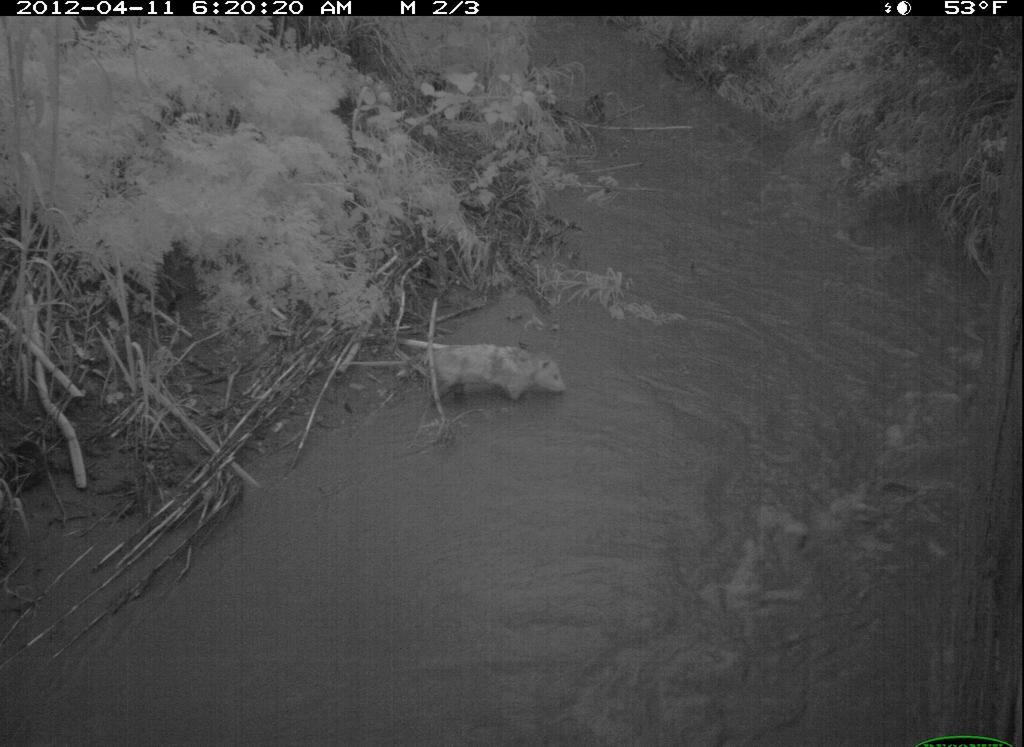opossum: (411, 328, 571, 431)
